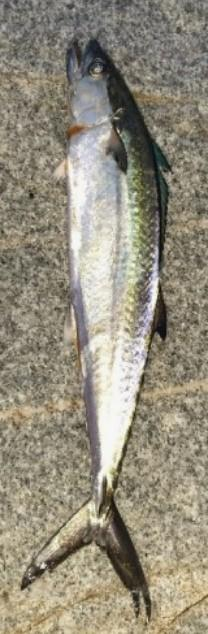fish: (21, 39, 172, 621)
